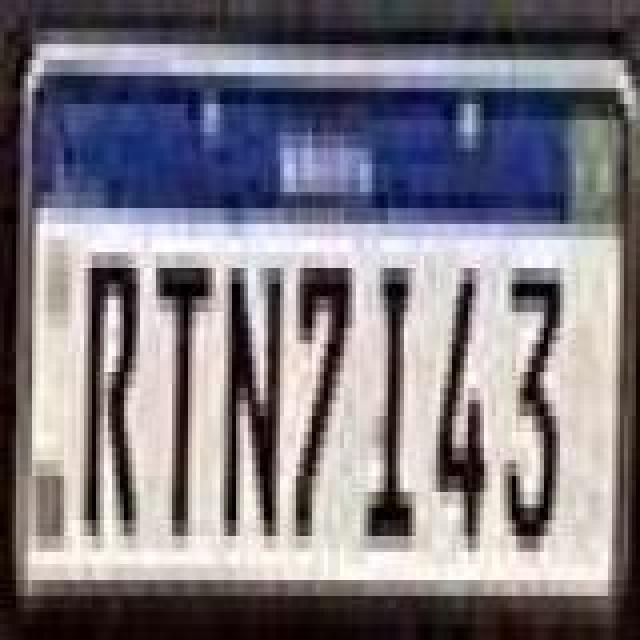3: (496, 252, 568, 548)
4: (432, 258, 488, 542)
7: (290, 258, 350, 542)
I: (364, 252, 420, 548)
N: (222, 252, 282, 548)
R: (82, 250, 142, 534)
T: (152, 258, 216, 542)
